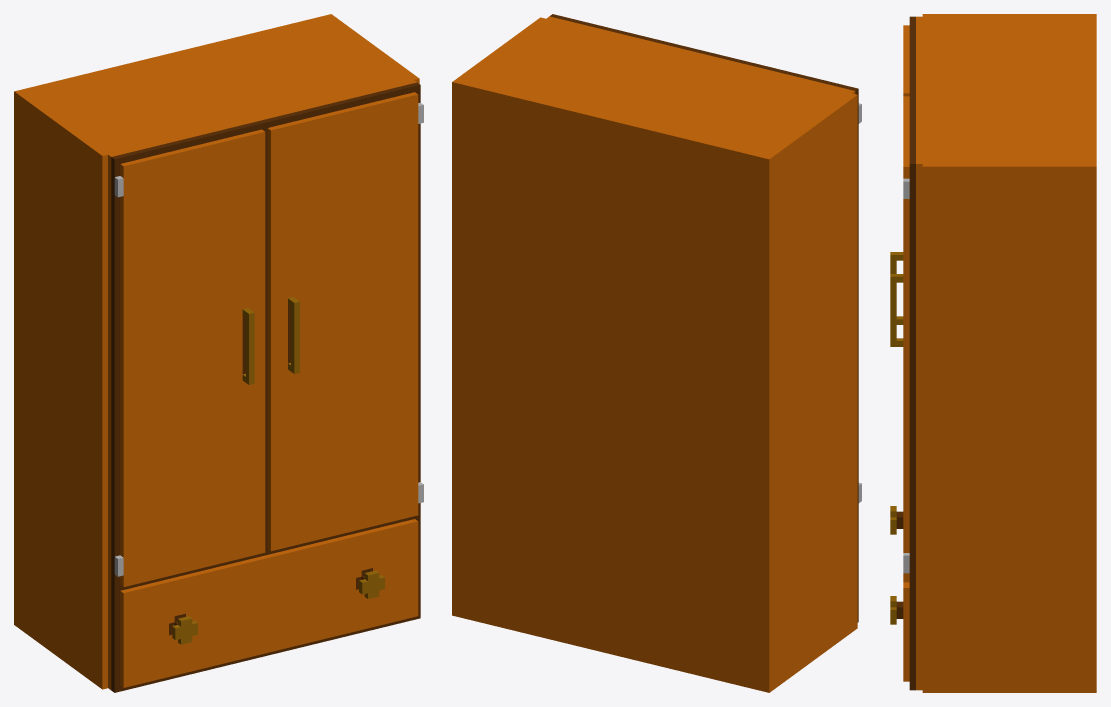
File: closet.obj
3 views of the same model, side by side, from view 1: azimuth 30°, elevation 25°; view 2: azimuth 150°, elevation 25°; view 3: azimuth 270°, elevation 25° (orthographic).
Bounding box in the file's own units: 5.6 × 9 × 3.2.
Materials: 1 (1 with a texture image).
